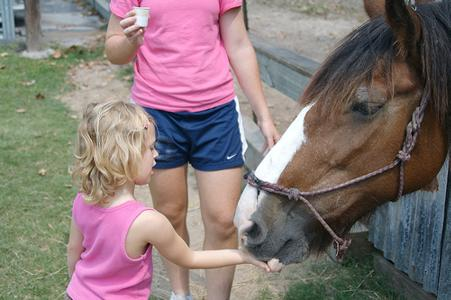person: (63, 105, 280, 300)
